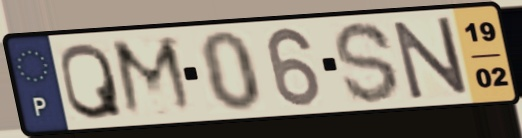0: (194, 29, 267, 115)
6: (264, 25, 324, 110)
M: (107, 33, 200, 120)
N: (389, 13, 473, 103)
Q: (57, 39, 126, 122)
S: (330, 18, 404, 106)
